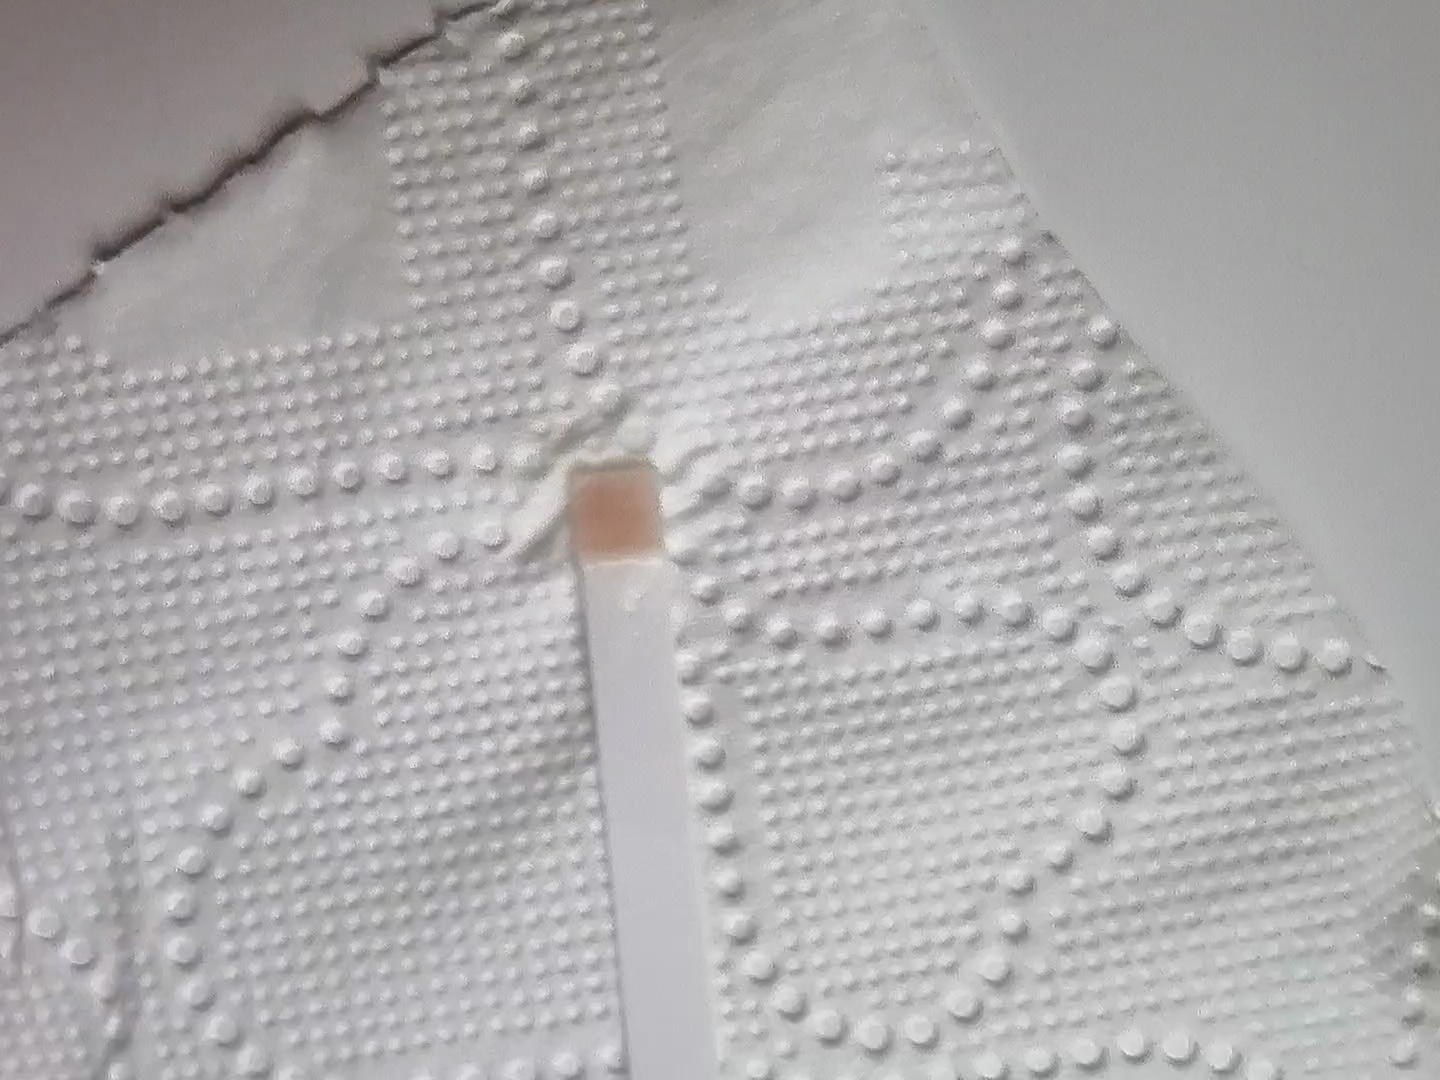keto-tip: (561, 459, 669, 567)
